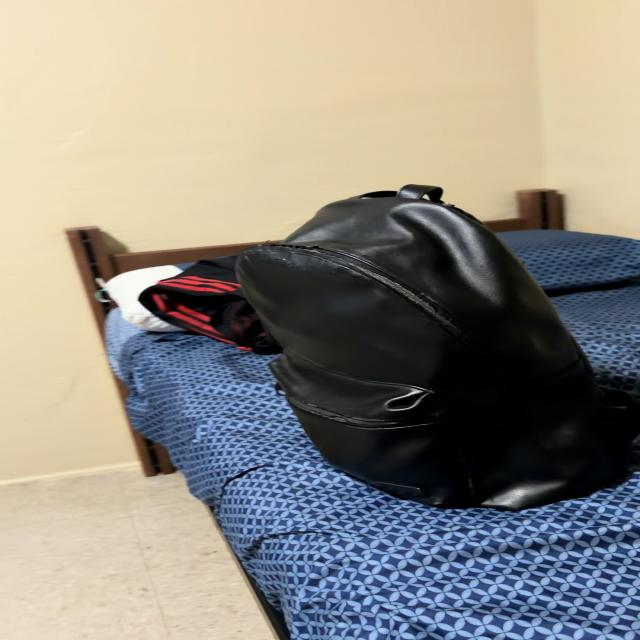backpack: (237, 185, 639, 510)
